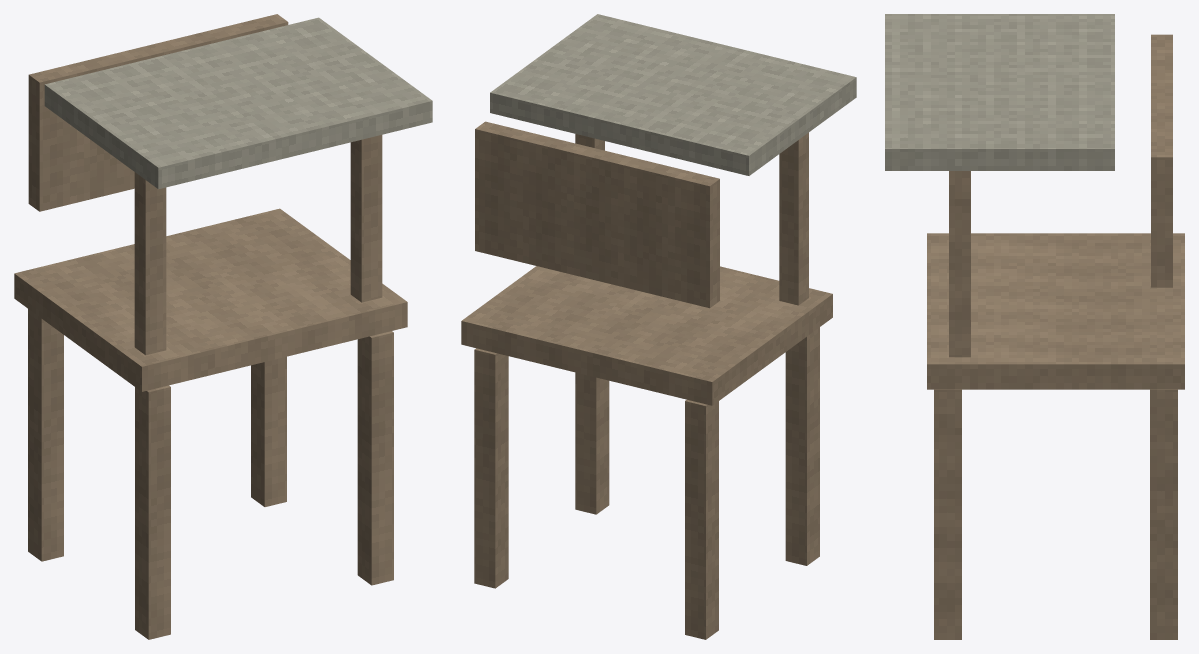
File: level_blockout_marsh_hunting_blind.glb
The picture shows the model from 3 angles, left to right: view 1: azimuth 30°, elevation 25°; view 2: azimuth 150°, elevation 25°; view 3: azimuth 270°, elevation 25°; orthographic projection. The views are drawn at different scales.
Visible parts, largest first — view 1: level_blockout_marsh_hunting_blind; view 2: level_blockout_marsh_hunting_blind; view 3: level_blockout_marsh_hunting_blind.
Part boxes in pixels (x1,y1,x2,y2): level_blockout_marsh_hunting_blind: (14, 14, 432, 639); level_blockout_marsh_hunting_blind: (461, 14, 856, 639); level_blockout_marsh_hunting_blind: (885, 14, 1184, 639).
Bounding box in the file's own units: 1.6 × 2.75 × 1.5.
Materials: 2 (2 with a texture image).
